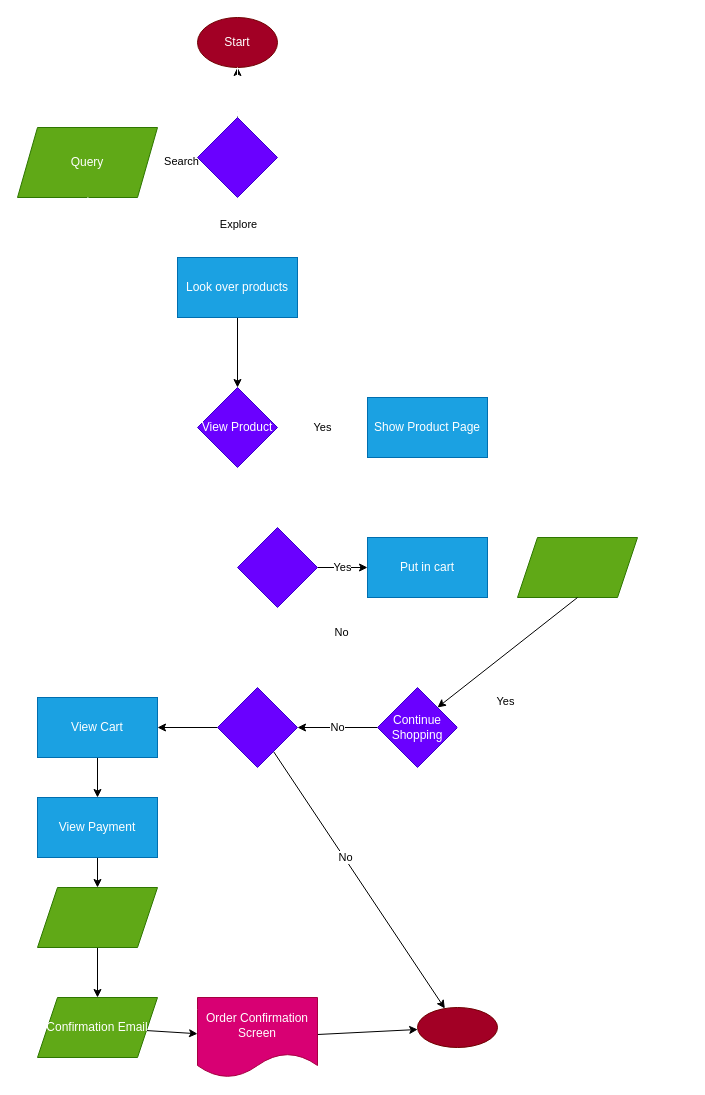
This 705x1095 diagram has some shape labels left out. Here are the shapes that lost their labels. From the top down, the box of each, then its label:
(196, 116, 278, 198): Homepage
(236, 526, 318, 608): Add to Cart
(516, 536, 638, 598): Confirmation
(216, 686, 298, 768): Checkout
(36, 886, 158, 948): Payment Info
(416, 1006, 498, 1048): End
